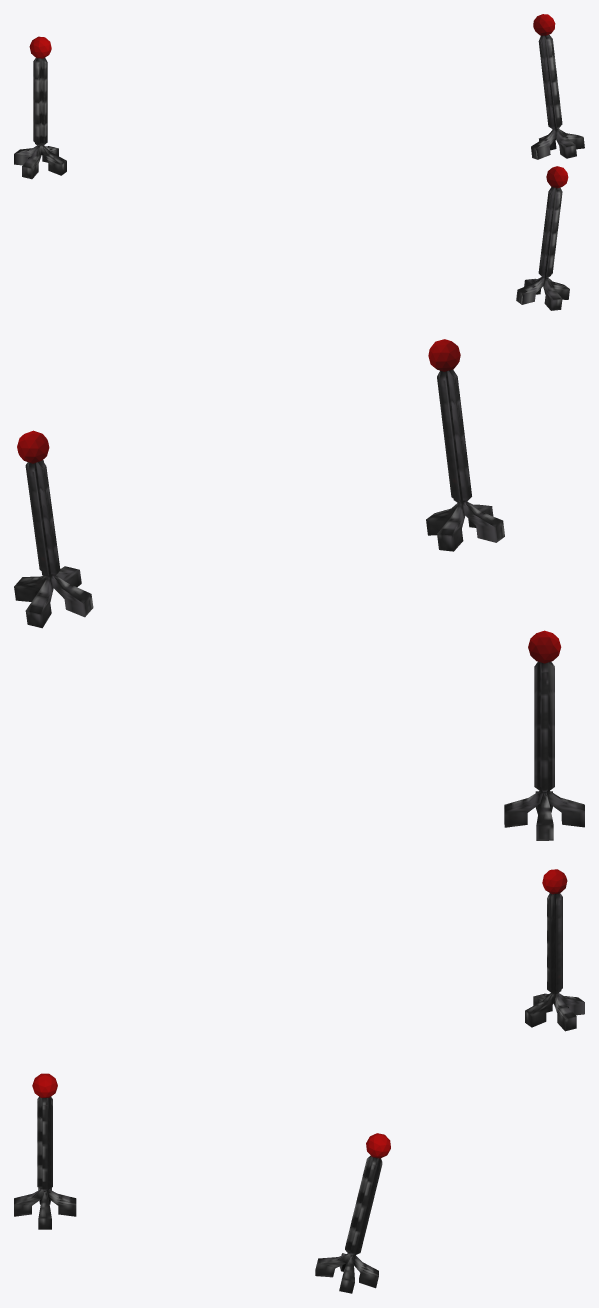
The model's file is beacons.glb.
3 renders of one model, top to bottom at view 1: azimuth 30°, elevation 25°; view 2: azimuth 150°, elevation 25°; view 3: azimuth 270°, elevation 25°, orthographic. The views are drawn at different scales.
Visible parts, largest first — view 1: beacon.002, beacon.001, beacon, Icosphere.001, Icosphere.002, Icosphere; view 2: beacon, beacon.001, beacon.002, Icosphere.002, Icosphere, Icosphere.001; view 3: beacon.001, beacon.002, beacon.
Boxes of the visible parts, left/top/right/bottom form: beacon.002: left=14, top=58, right=66, bottom=179; beacon.001: left=531, top=34, right=584, bottom=159; beacon: left=516, top=187, right=569, bottom=310; Icosphere.001: left=533, top=14, right=555, bottom=35; Icosphere.002: left=29, top=36, right=51, bottom=58; Icosphere: left=546, top=166, right=568, bottom=188; beacon: left=426, top=369, right=504, bottom=551; beacon.001: left=14, top=460, right=93, bottom=628; beacon.002: left=504, top=661, right=584, bottom=840; Icosphere.002: left=528, top=630, right=561, bottom=663; Icosphere: left=428, top=339, right=460, bottom=371; Icosphere.001: left=17, top=430, right=49, bottom=463; beacon.001: left=315, top=1155, right=382, bottom=1293; beacon.002: left=525, top=893, right=584, bottom=1031; beacon: left=14, top=1096, right=76, bottom=1229.
Bounding box in the file's own units: 3.13 × 1.08 × 2.89.
2 materials, 2 textured.
